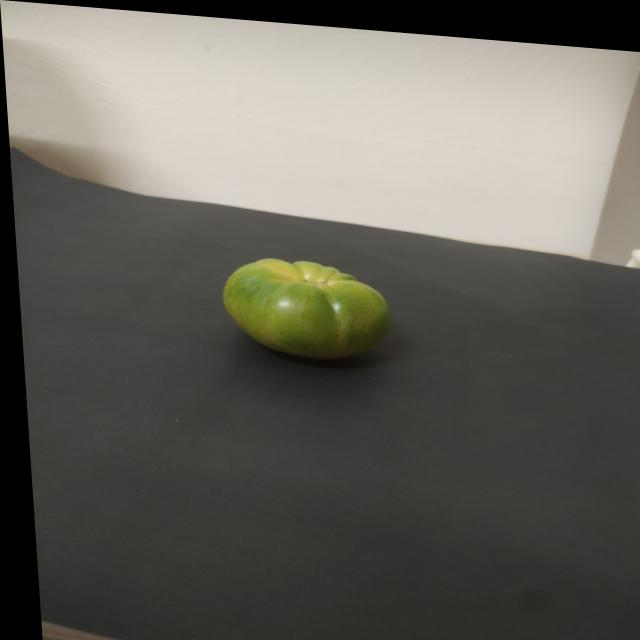yesil: (203, 234, 426, 381)
